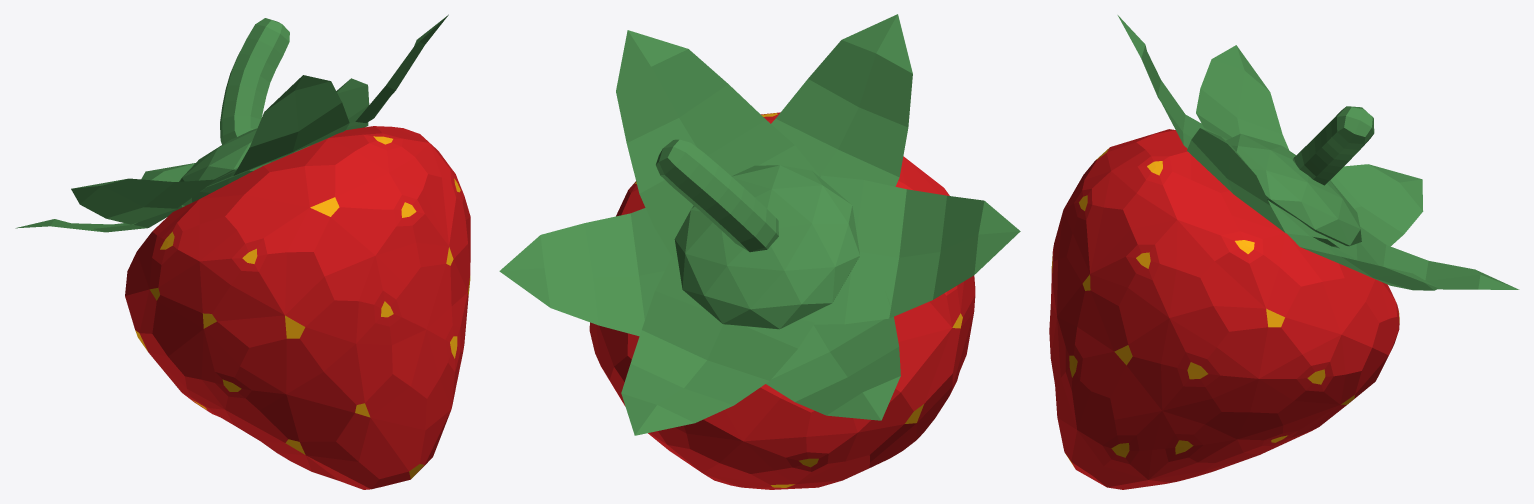
The model's file is strawberry_0.fbx.
3 renders of one model, left to right at view 1: azimuth 30°, elevation 25°; view 2: azimuth 150°, elevation 25°; view 3: azimuth 270°, elevation 25°, orthographic. The views are drawn at different scales.
Parts seen in each view (by area): view 1: strawberry_0; view 2: strawberry_0; view 3: strawberry_0.
Part boxes in pixels (bbox=[...]): strawberry_0: bbox=[15, 14, 470, 489]; strawberry_0: bbox=[499, 14, 1020, 489]; strawberry_0: bbox=[1049, 15, 1519, 489].
Size of the model in its own units: 129 by 139 by 137.
